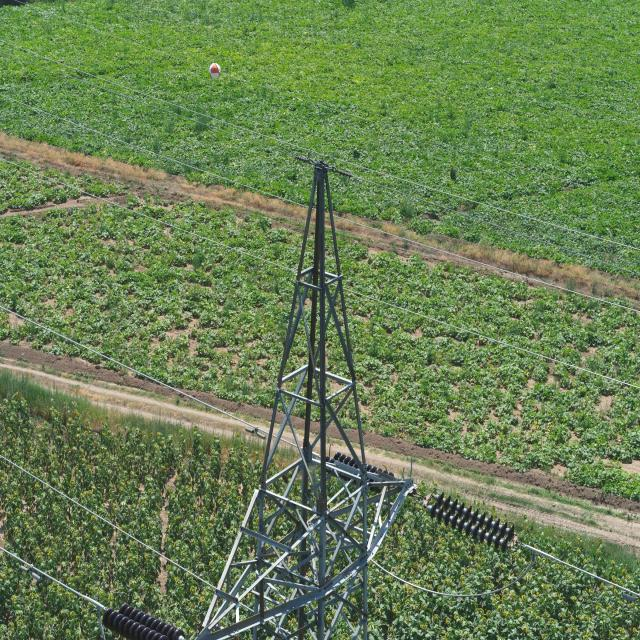voltage_line: (192, 170, 412, 640)
